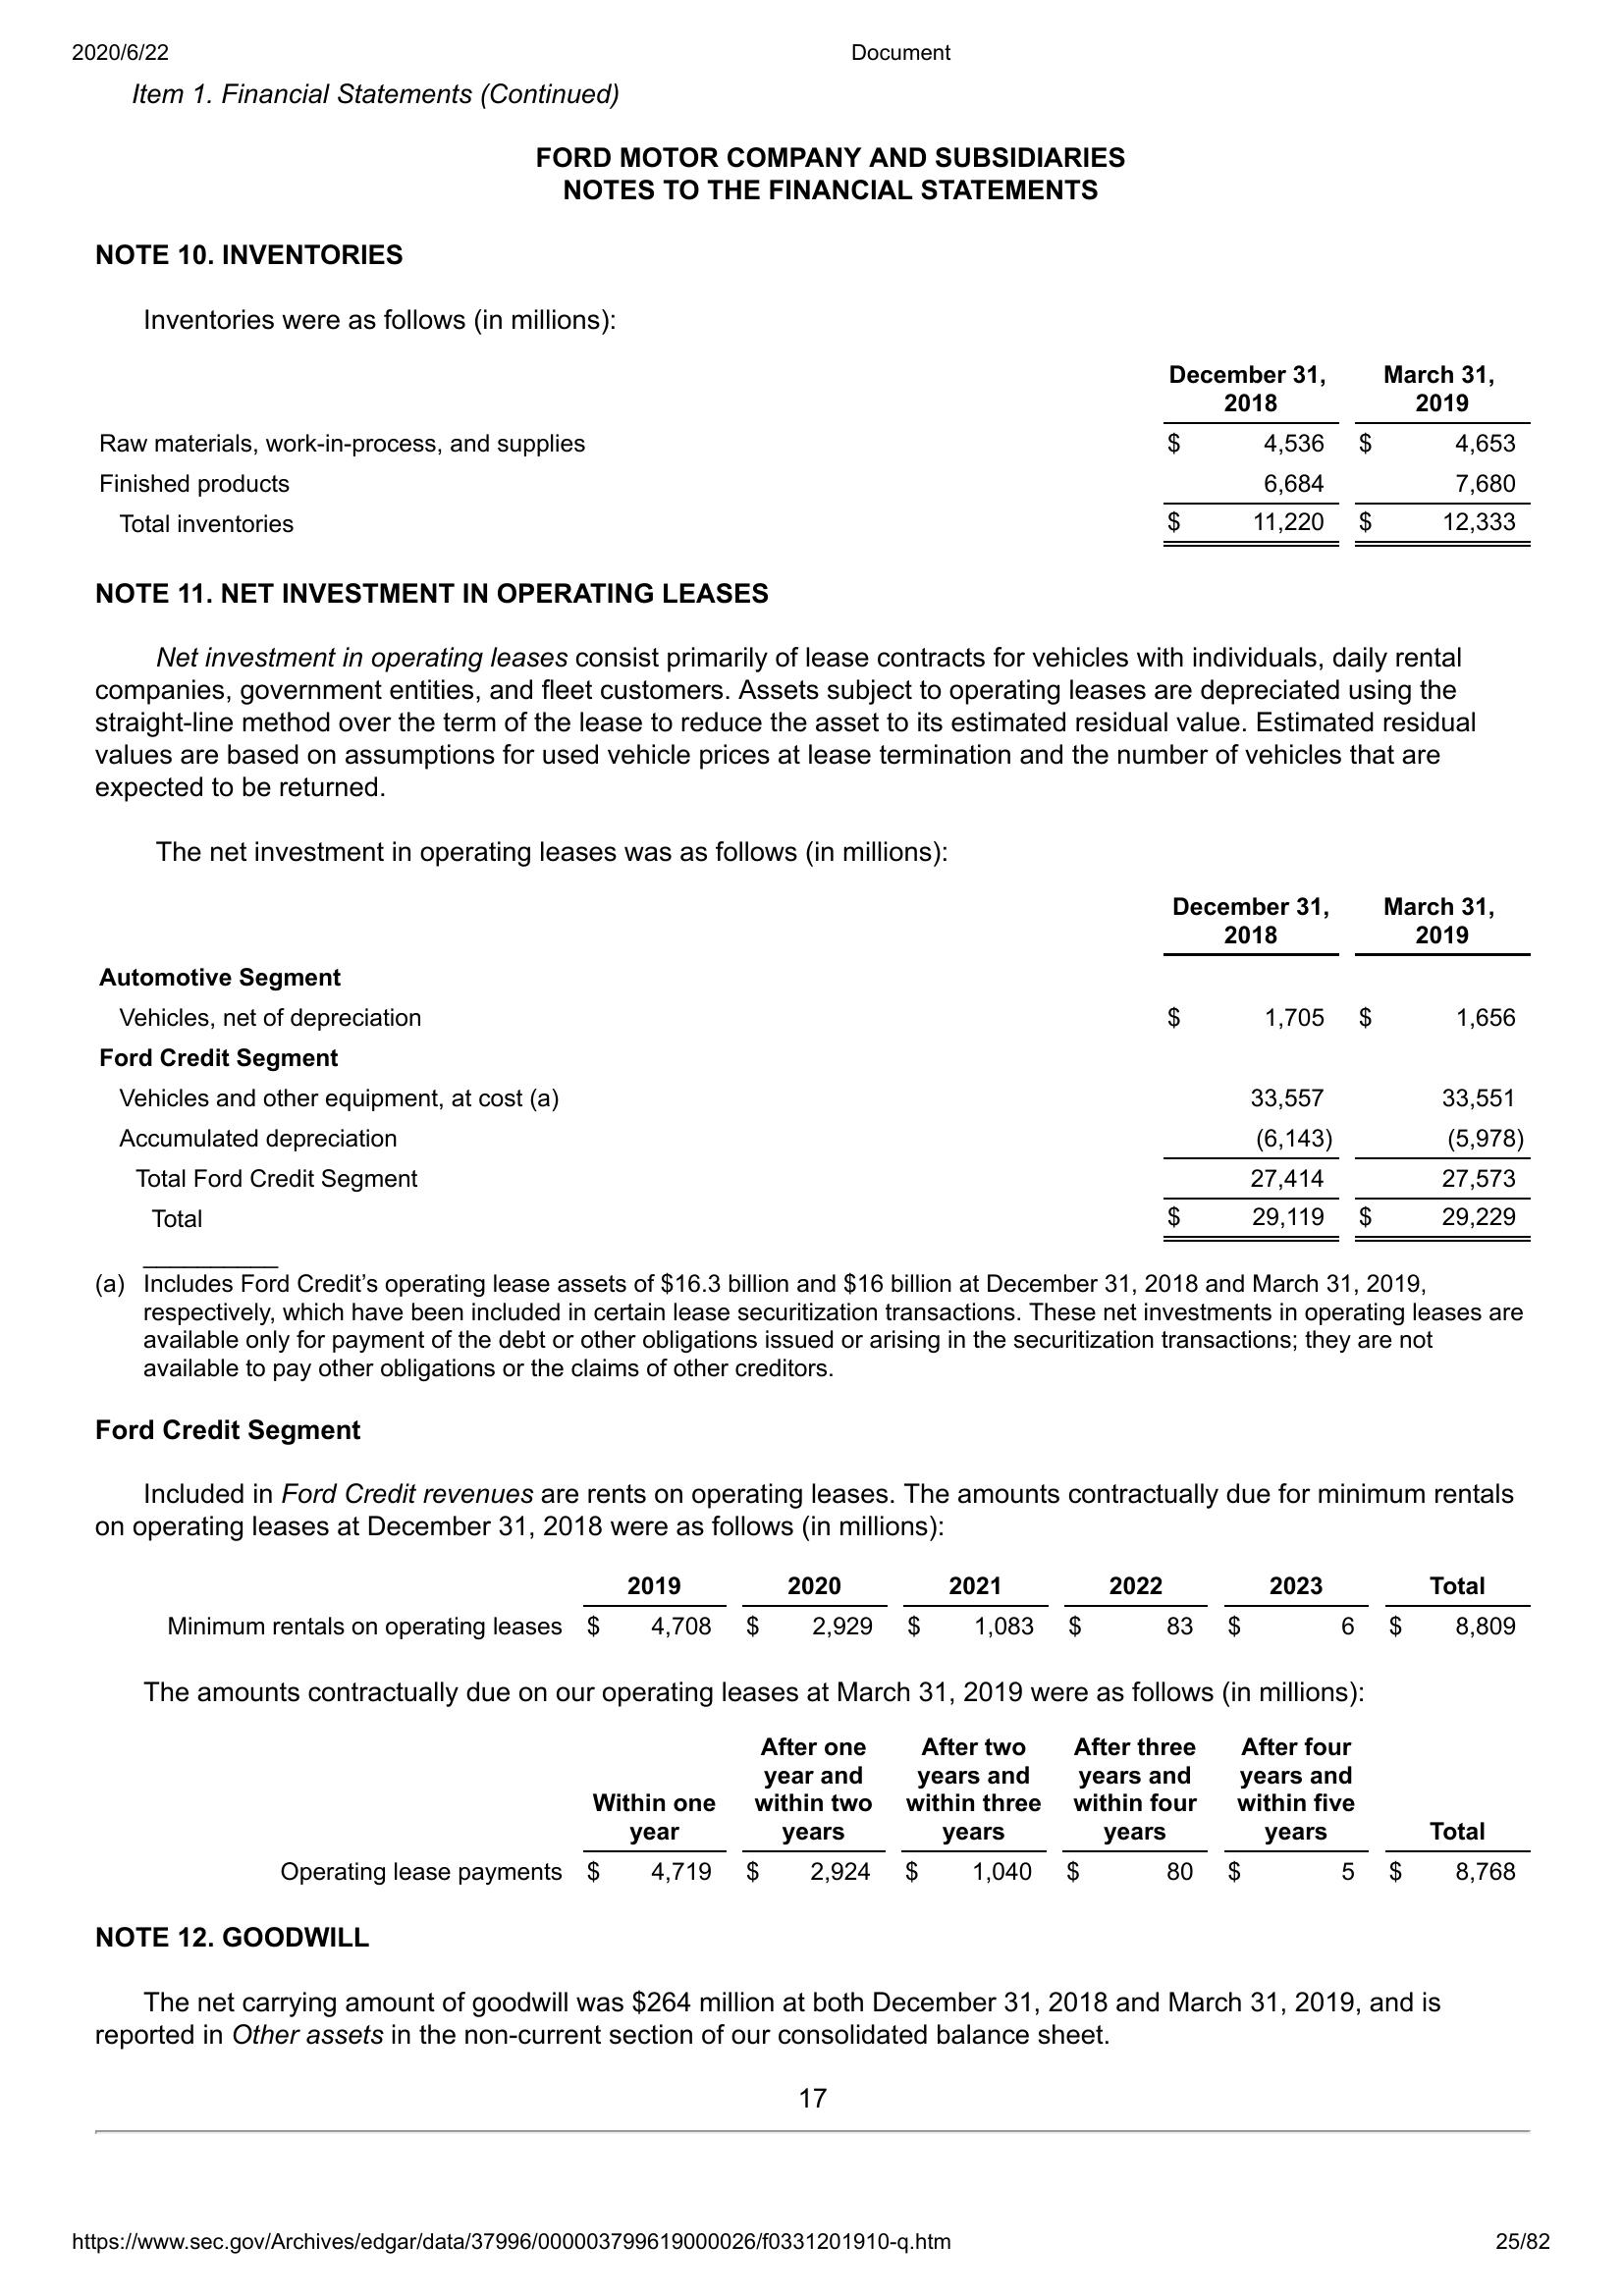table: (83, 881, 1554, 1250), (121, 1559, 1546, 1892), (88, 348, 1535, 563)
